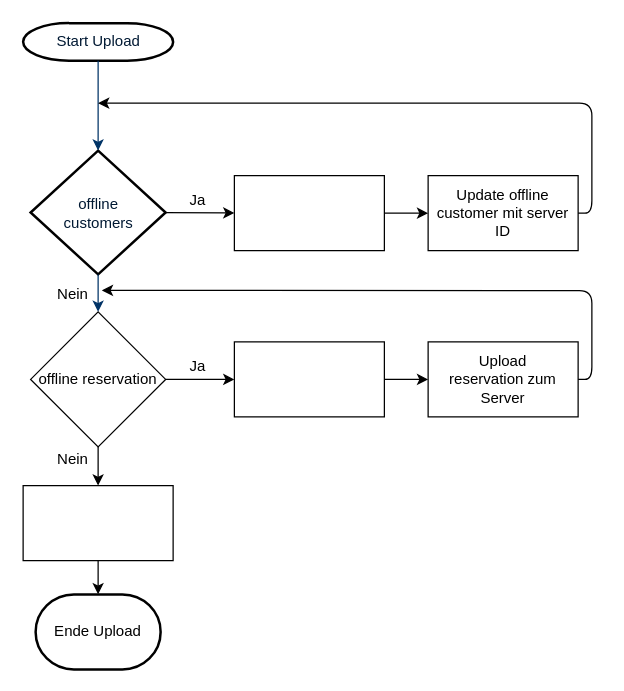
Image size: 624x691. Some labels were removed from this diagram. The shapes that lost their labels are listed below. From the top down, each one's centre as x and y in pixels, then its label:
the point at 308,212: Upload offline customer zum Server
the point at 308,379: Ersetze offline ID durch server ID
the point at 97,522: Lösche offline Daten
